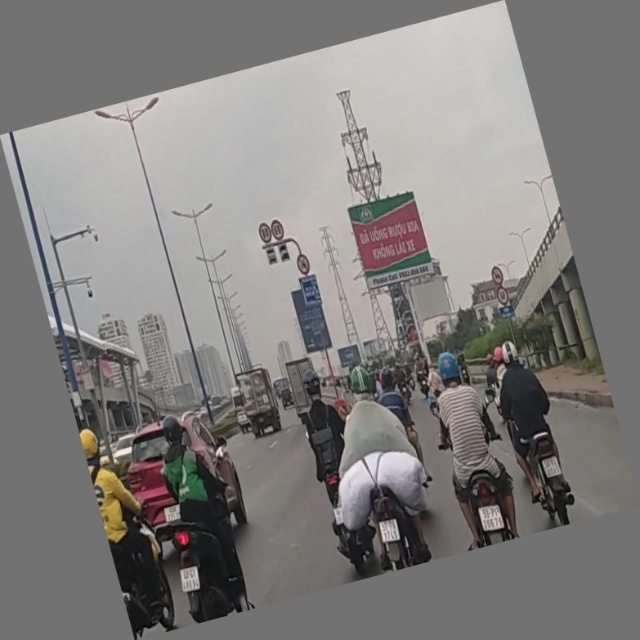P.103a: (490, 266, 506, 287)
P.104: (294, 252, 313, 275)
P.127*50: (495, 284, 512, 307)
P.127*60: (269, 219, 286, 242)
P.127*80: (256, 221, 272, 243)
